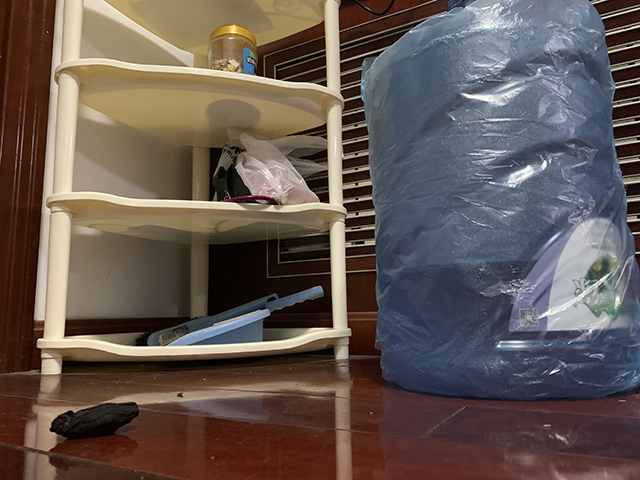feces: (46, 399, 144, 439)
